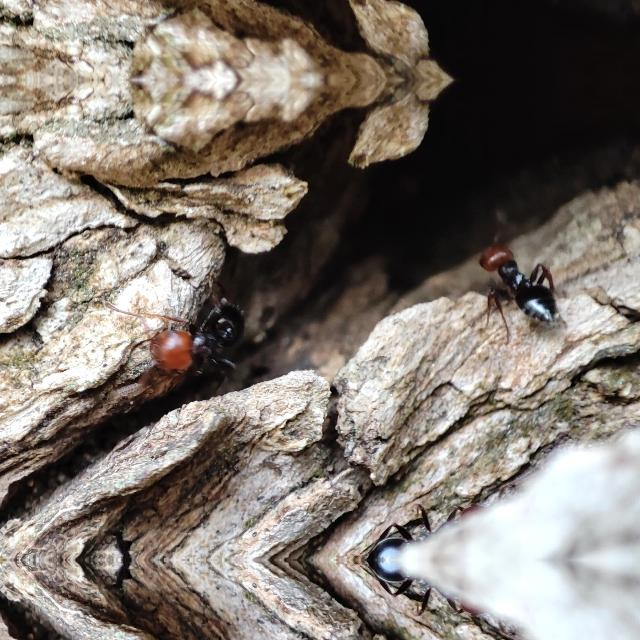Crematogaster: (130, 278, 248, 394), (469, 240, 565, 334)
